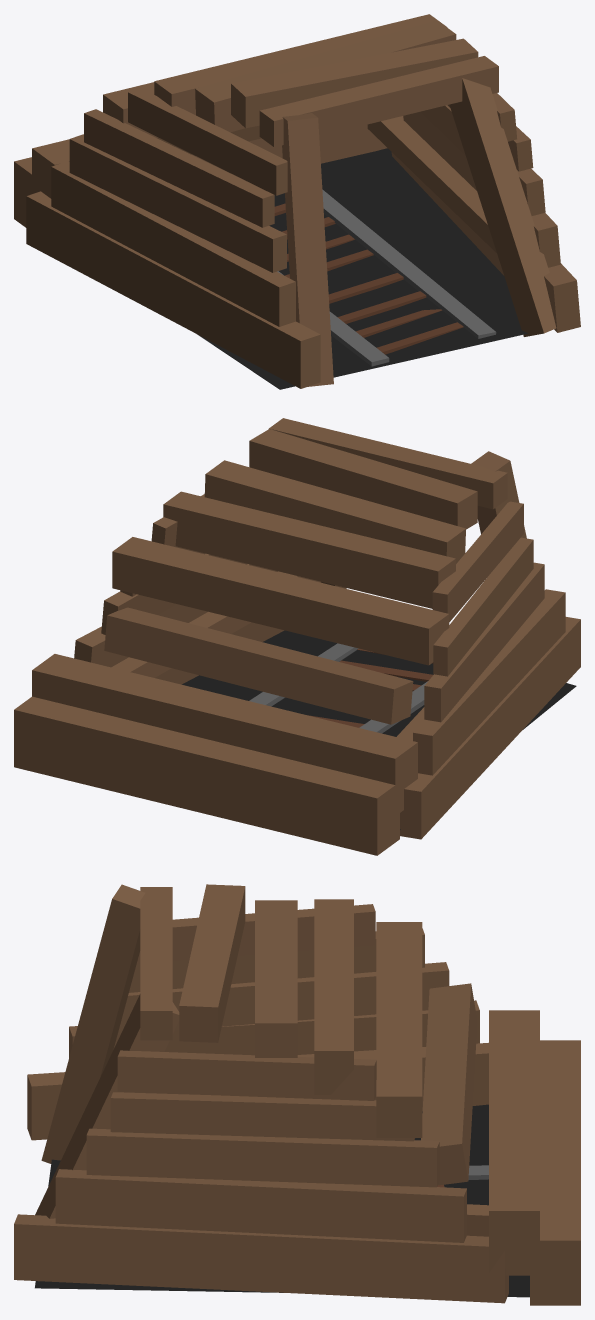
The model's file is Mine.fbx.
The picture shows the model from 3 angles, top to bottom: view 1: azimuth 30°, elevation 25°; view 2: azimuth 150°, elevation 25°; view 3: azimuth 270°, elevation 25°; orthographic projection. The views are drawn at different scales.
Visible parts, largest first — view 1: Cube; view 2: Cube; view 3: Cube.
Boxes of the visible parts, x1,y1,x2,y2 form: Cube: (14, 14, 580, 389); Cube: (14, 418, 580, 855); Cube: (14, 884, 580, 1305).
Bounding box in the file's own units: 348 × 214 × 395.
1 material, 1 textured.
